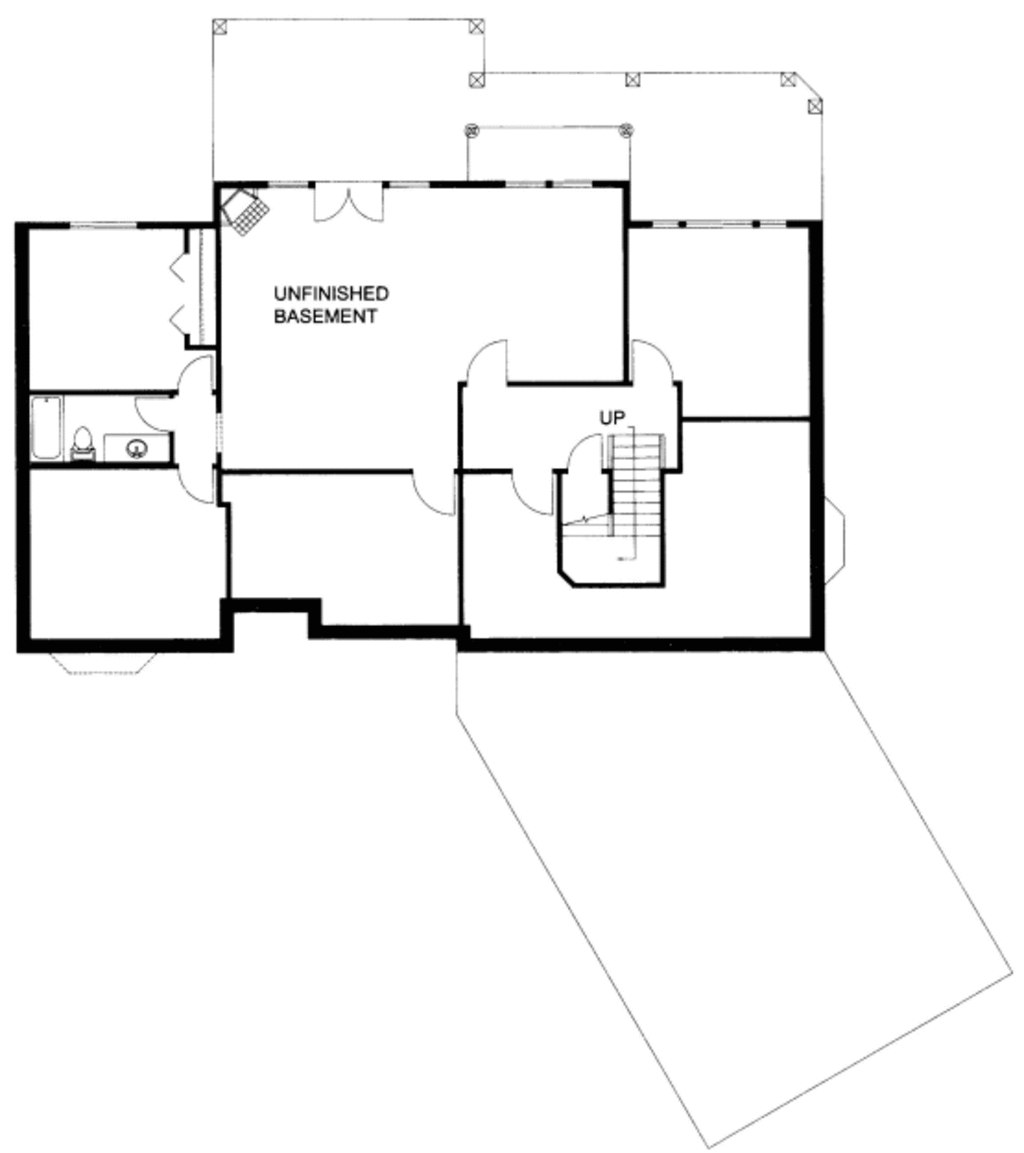door: (615, 318, 684, 395), (306, 177, 400, 227), (408, 454, 472, 524), (461, 324, 524, 386), (563, 420, 620, 488), (176, 457, 236, 520), (174, 352, 229, 407), (129, 377, 181, 434), (509, 459, 556, 520)
large_sink: (63, 411, 108, 470)
small_sink: (108, 427, 172, 457)
stairs: (549, 423, 691, 613)
tub: (17, 384, 68, 465)
window: (656, 218, 813, 234), (65, 207, 156, 234)
